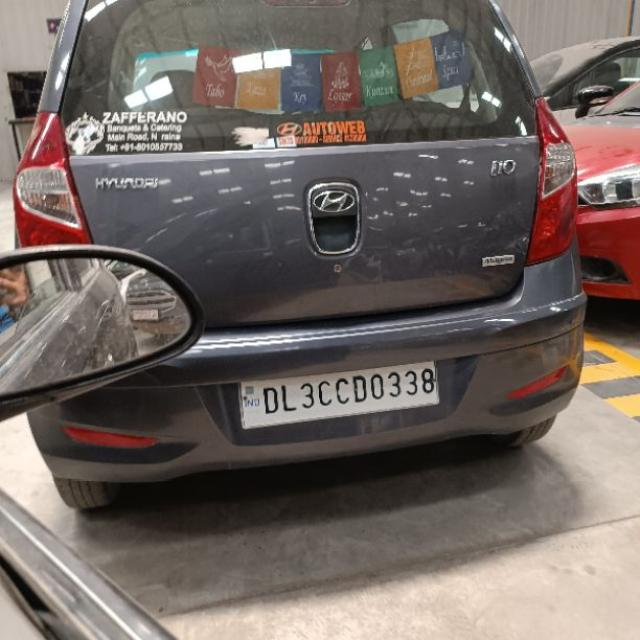license_plate: (237, 358, 440, 430)
